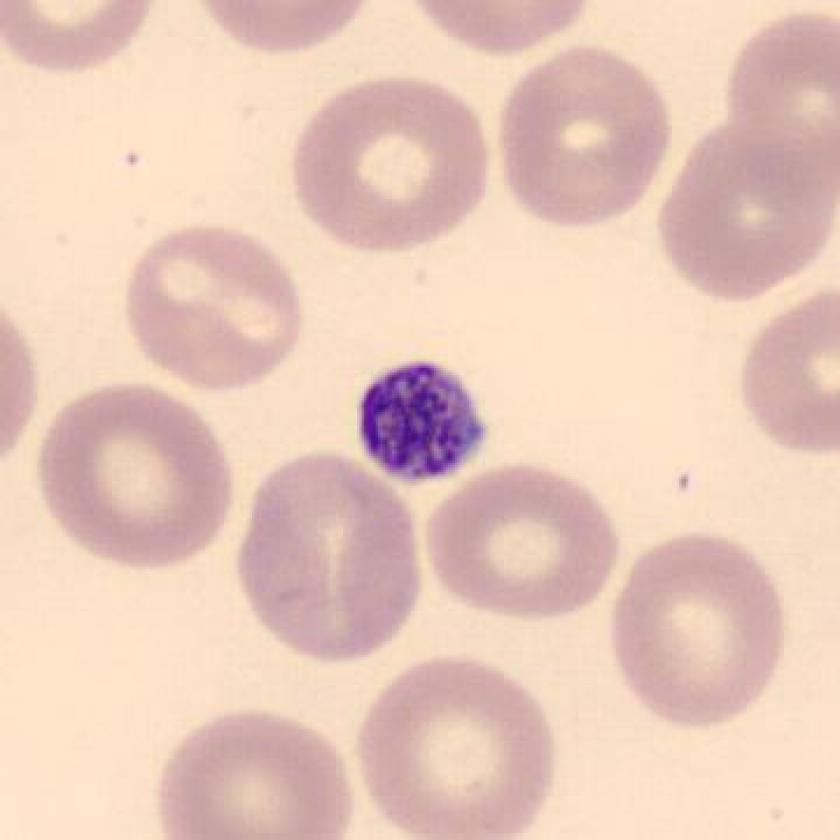platelets: (349, 351, 505, 490)
